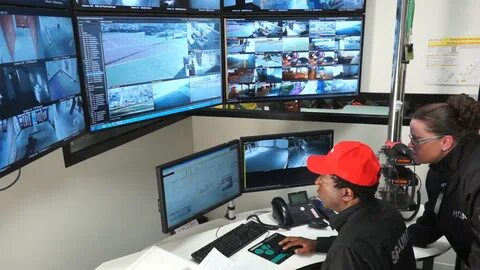awake: (312, 140, 418, 270), (407, 92, 480, 269)
